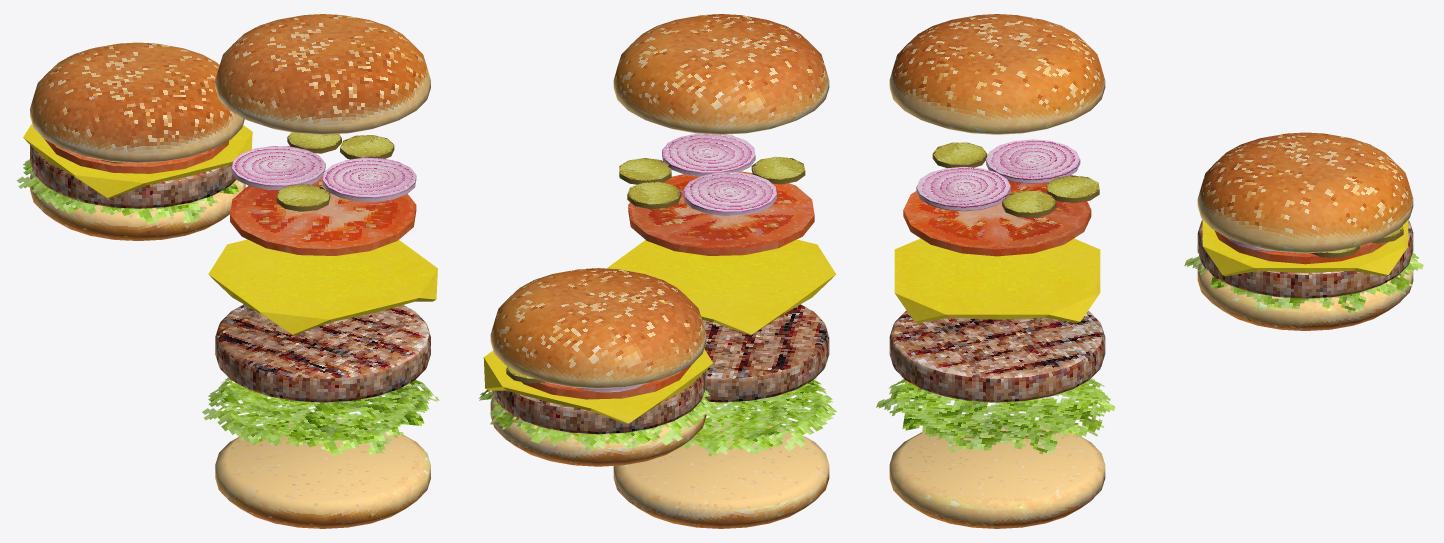
Rendered from low-poly_burger.glb.
3 renders of one model, left to right at view 1: azimuth 30°, elevation 25°; view 2: azimuth 150°, elevation 25°; view 3: azimuth 270°, elevation 25°, orthographic.
Visible parts, largest first — view 1: Circle.007, Circle.003, Circle.005, Circle.004, Plane.001, Circle.006, Cylinder.008, Circle, Circle.002, Plane, Cylinder.010, Cylinder.009 (+5 smaller); view 2: Circle.007, Circle.003, Circle.004, Plane.001, Circle.005, Cylinder.008, Circle.006, Circle.002, Circle, Plane, Cylinder.009, Cylinder.010 (+5 smaller); view 3: Circle.003, Circle.007, Circle.004, Circle.005, Plane.001, Circle.006, Cylinder.008, Circle, Circle.002, Plane, Cylinder.010, Cylinder.009 (+5 smaller).
Boxes of the visible parts, box(x1,y1,x2,y2) form: Circle.007: box(215, 14, 430, 134); Circle.003: box(30, 42, 244, 163); Circle.005: box(215, 304, 430, 402); Circle.004: box(215, 418, 430, 528); Plane.001: box(208, 239, 437, 335); Circle.006: box(202, 377, 439, 456); Cylinder.008: box(230, 170, 416, 255); Circle: box(30, 169, 245, 240); Circle.002: box(30, 145, 236, 208); Plane: box(23, 123, 252, 198); Cylinder.010: box(322, 157, 416, 201); Cylinder.009: box(232, 146, 325, 189); Circle.007: box(613, 14, 829, 134); Circle.003: box(490, 268, 706, 388); Circle.004: box(613, 421, 829, 528); Plane.001: box(607, 239, 835, 335); Circle.005: box(702, 304, 829, 402); Cylinder.008: box(628, 171, 814, 255); Circle.006: box(676, 377, 836, 456); Circle.002: box(492, 371, 706, 434); Circle: box(490, 397, 706, 466); Plane: box(483, 349, 712, 424); Cylinder.009: box(683, 172, 776, 216); Cylinder.010: box(662, 133, 755, 176); Circle.003: box(1197, 132, 1413, 253); Circle.007: box(889, 14, 1105, 134); Circle.004: box(889, 418, 1105, 528); Circle.005: box(889, 311, 1105, 402); Plane.001: box(894, 238, 1100, 322); Circle.006: box(876, 378, 1115, 454); Cylinder.008: box(903, 180, 1091, 256); Circle: box(1197, 263, 1413, 330); Circle.002: box(1197, 219, 1413, 298); Plane: box(1202, 220, 1408, 276); Cylinder.010: box(916, 166, 1010, 211); Cylinder.009: box(986, 139, 1080, 183).
Bounding box in the file's own units: 0.2633 × 0.4567 × 0.5156.
Materials: 1 (1 with a texture image).
